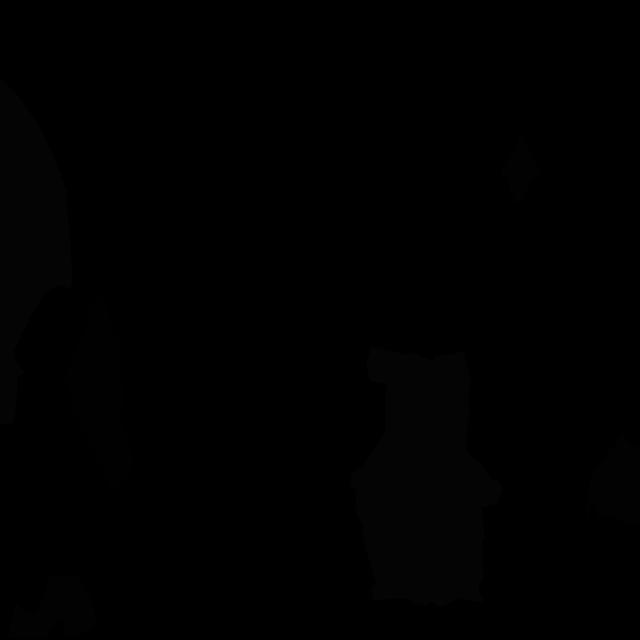cardboard: (6, 575, 96, 639), (586, 433, 640, 528), (500, 134, 540, 207)
rigid_plastic: (65, 297, 134, 489)
soft_plastic: (349, 346, 503, 607), (0, 78, 72, 424)
